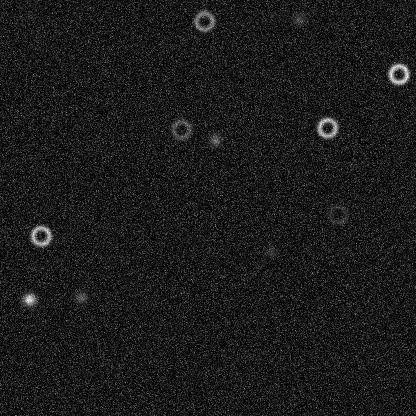Ring: (192, 9, 216, 33), (28, 223, 52, 247), (315, 115, 339, 139), (386, 61, 410, 85), (169, 117, 193, 141), (326, 202, 350, 226)
Spot: (291, 10, 307, 26), (262, 244, 278, 260), (21, 291, 37, 307), (207, 132, 223, 148), (72, 289, 88, 305)
